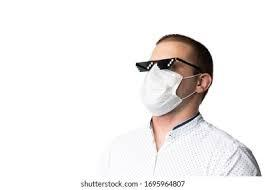mask: (142, 63, 188, 116)
sunglasses: (132, 55, 182, 74)
